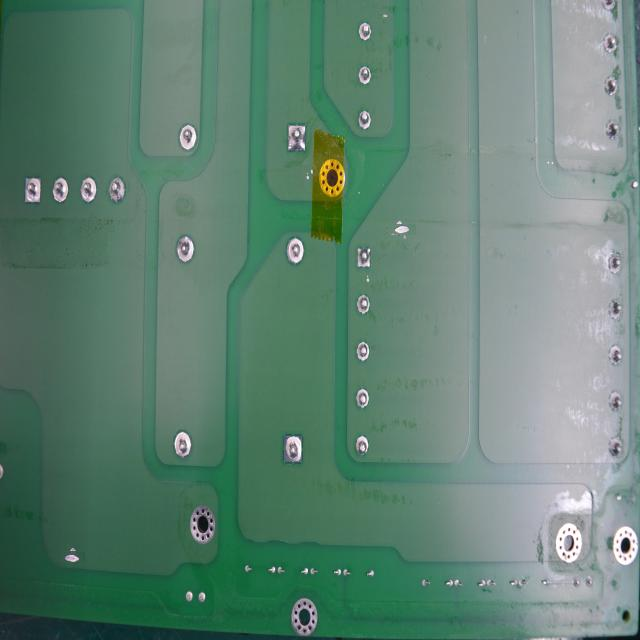spillover: (388, 219, 411, 240), (64, 547, 82, 565), (379, 11, 390, 22)
